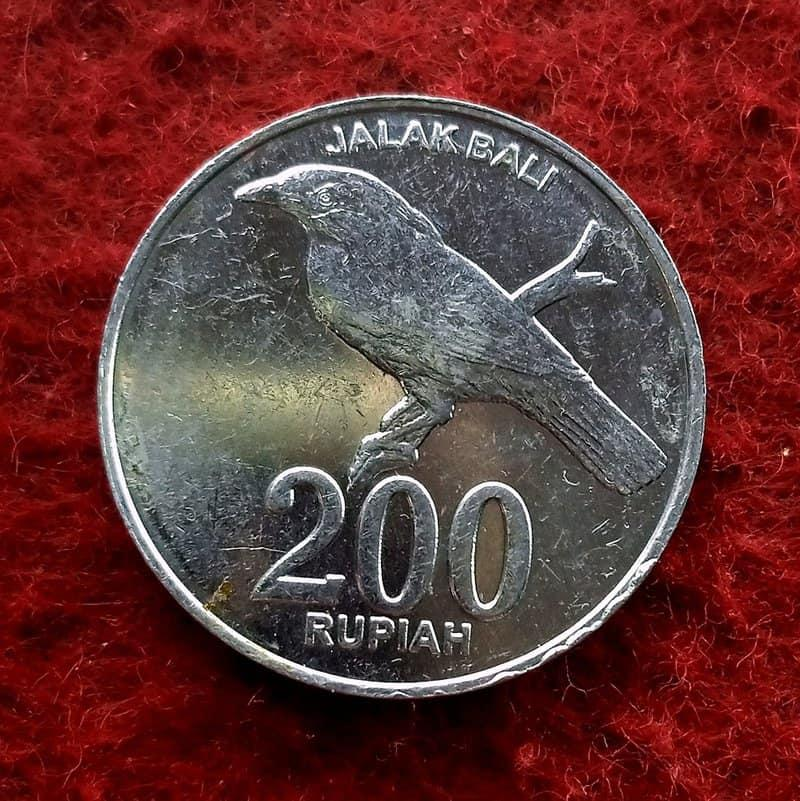coin_200_e2003: (93, 85, 710, 702)
